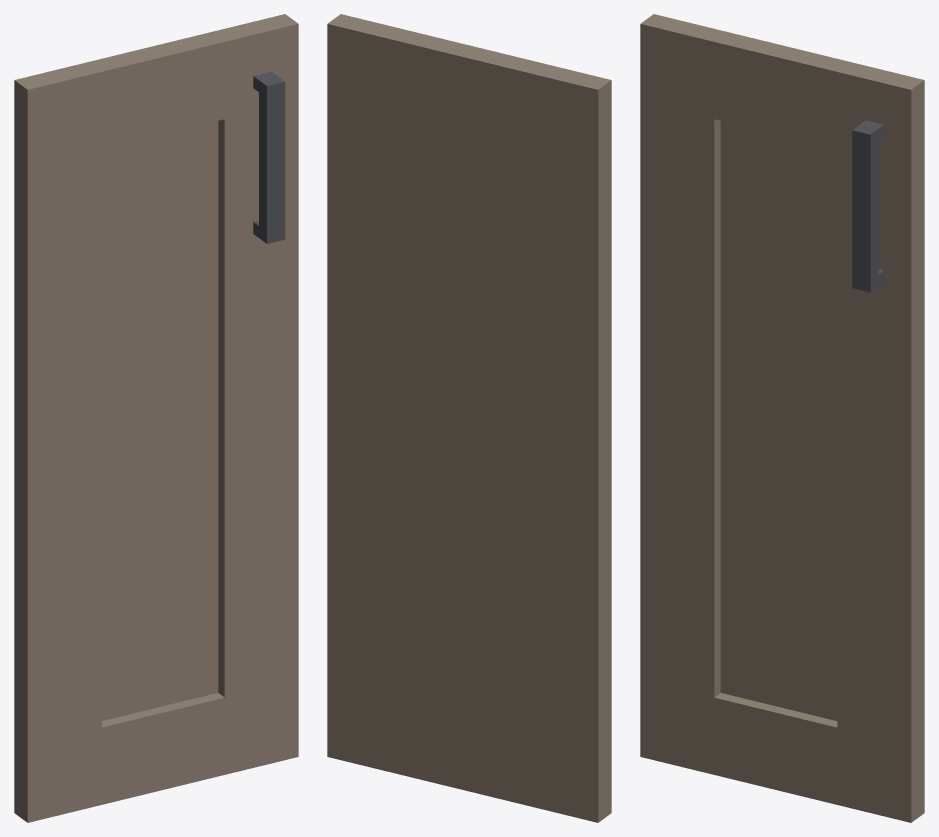
Rendered from Door2_C5_04.fbx.
3 renders of one model, left to right at view 1: azimuth 30°, elevation 25°; view 2: azimuth 150°, elevation 25°; view 3: azimuth 330°, elevation 25°, orthographic.
Visible parts, largest first — view 1: Door2_C5_04; view 2: Door2_C5_04; view 3: Door2_C5_04.
Part boxes in pixels (box(x1,y1,x2,y2)): Door2_C5_04: box(14, 14, 298, 822); Door2_C5_04: box(327, 14, 611, 822); Door2_C5_04: box(640, 14, 924, 822).
Bounding box in the file's own units: 29 × 75 × 5.03.
